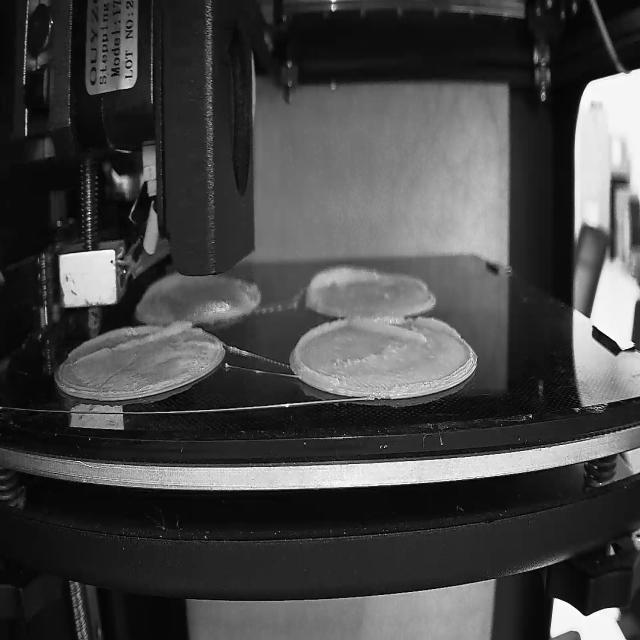over_extrusion: (82, 318, 197, 364), (352, 310, 464, 350), (291, 316, 349, 386), (300, 262, 381, 305), (404, 270, 427, 291)
